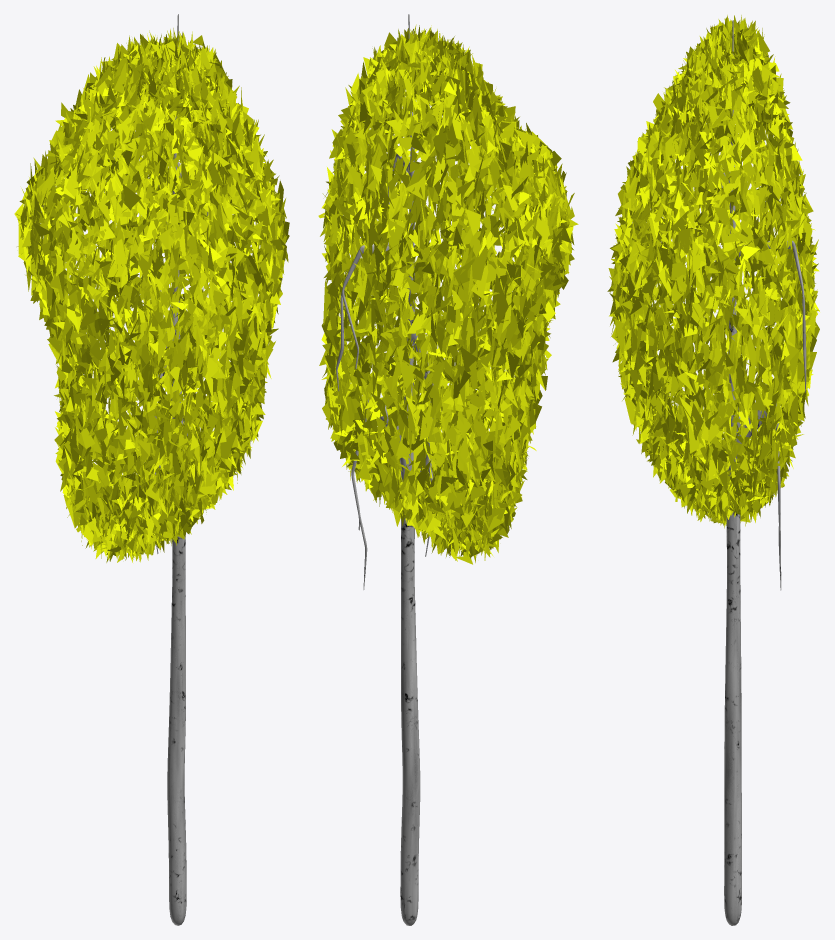
File: Leaves12.002.fbx
3 renders of one model, left to right at view 1: azimuth 30°, elevation 25°; view 2: azimuth 150°, elevation 25°; view 3: azimuth 270°, elevation 25°, orthographic.
Parts seen in each view (by area): view 1: Leaves12.002; view 2: Leaves12.002; view 3: Leaves12.002.
Part boxes in pixels (x1,y1,x2,y2): Leaves12.002: (14,14,289,925); Leaves12.002: (318,14,578,925); Leaves12.002: (607,15,819,925).
Size of the model in its own units: 739 by 2574 by 550.
Materials: 2 (1 with a texture image).
